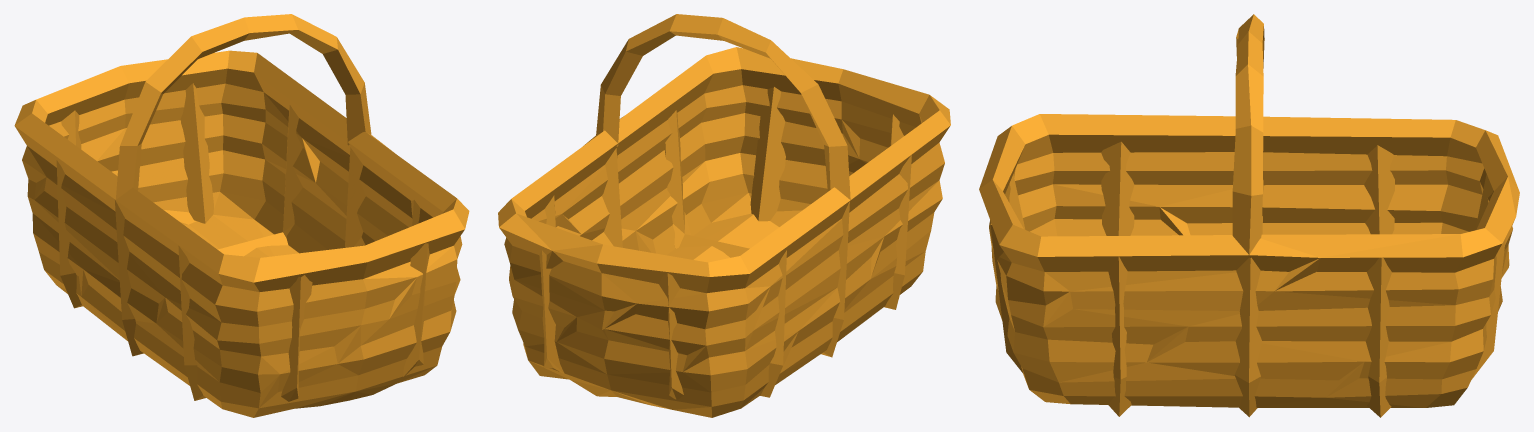
File: SM_Basket_A_Farm.fbx
3 views of the same model, side by side, from view 1: azimuth 30°, elevation 25°; view 2: azimuth 150°, elevation 25°; view 3: azimuth 270°, elevation 25° (orthographic). The views are drawn at different scales.
Parts seen in each view (by area): view 1: basket-a-farm; view 2: basket-a-farm; view 3: basket-a-farm.
Part boxes in pixels (<box>): basket-a-farm: <box>14,14,469,417</box>; basket-a-farm: <box>498,14,950,417</box>; basket-a-farm: <box>979,14,1519,417</box>.
Size of the model in its own units: 0.3196 by 0.3736 by 0.5517.
